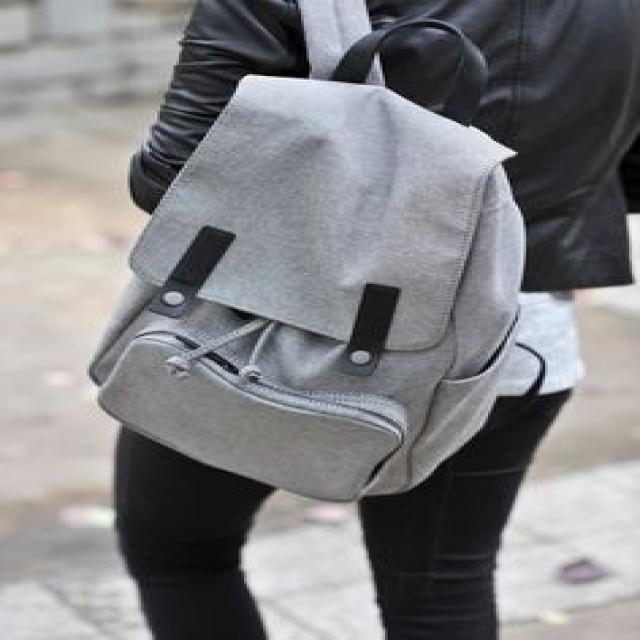Handbag: (88, 72, 547, 504)
